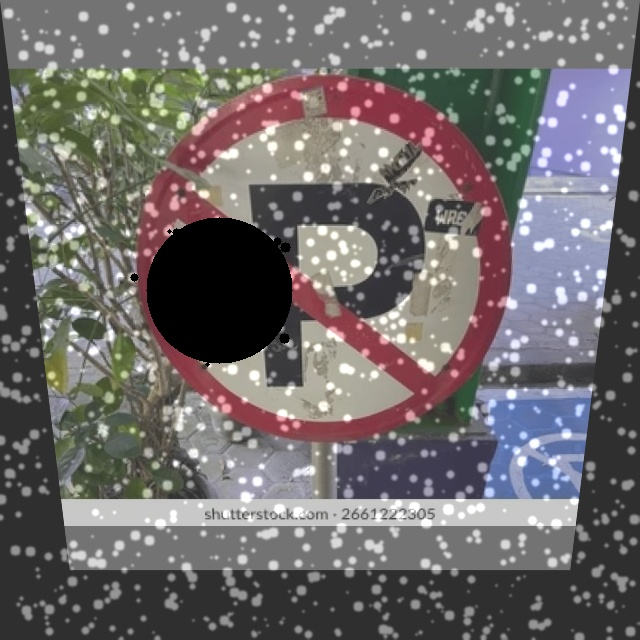No_Parking: (126, 75, 520, 430)
